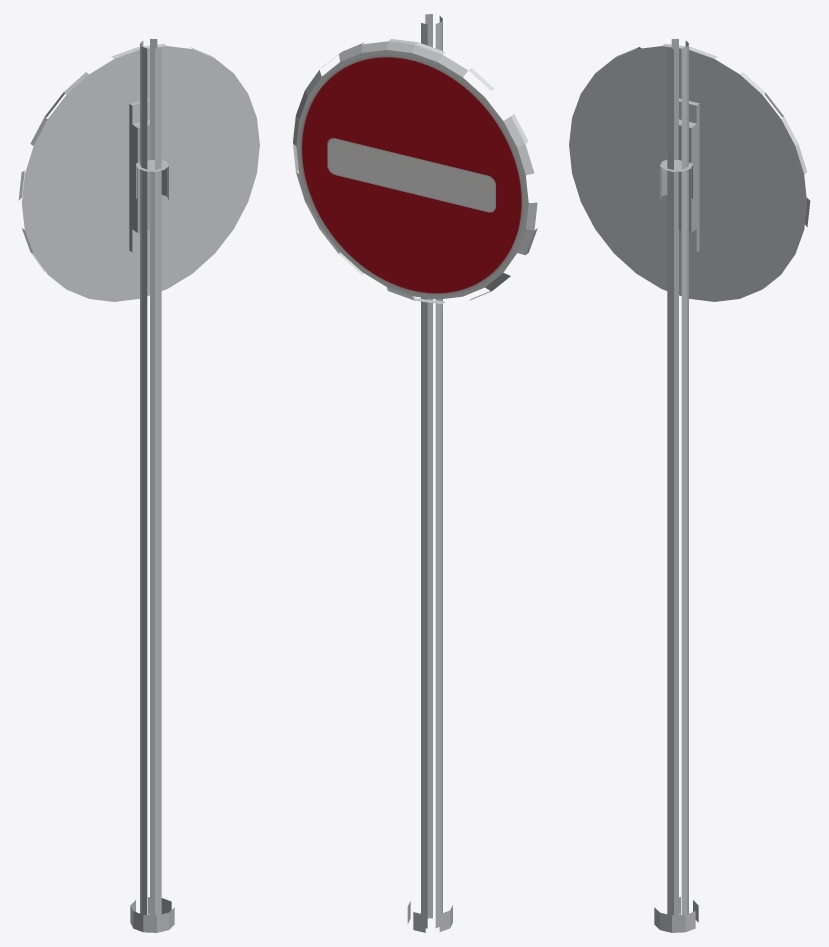
The model's file is sign_no_entry.glb.
3 renders of one model, left to right at view 1: azimuth 30°, elevation 25°; view 2: azimuth 150°, elevation 25°; view 3: azimuth 330°, elevation 25°, orthographic. The views are drawn at different scales.
Visible parts, largest first — view 1: sign_no_entry; view 2: sign_no_entry; view 3: sign_no_entry.
Boxes of the visible parts, x1,y1,x2,y2 form: sign_no_entry: (18,38,259,932); sign_no_entry: (293,14,537,932); sign_no_entry: (569,38,810,932).
Size of the model in its own units: 0.72 by 2.52 by 0.1487.
Materials: 5 (1 with a texture image).
